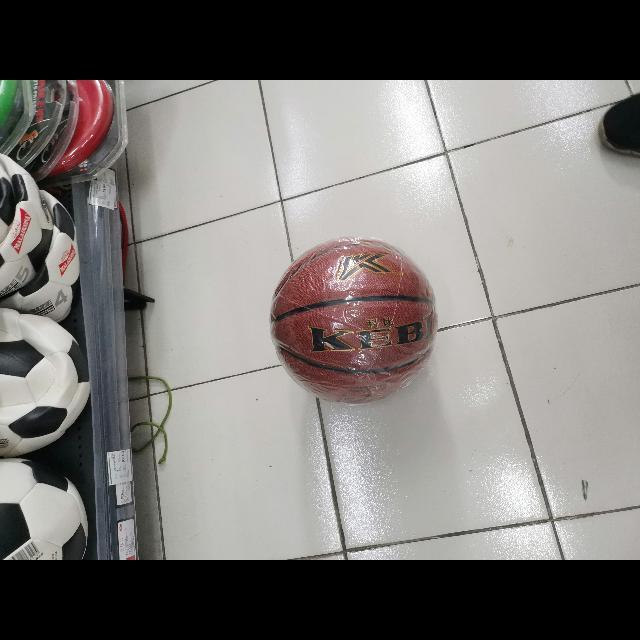basketball: (271, 241, 435, 404)
